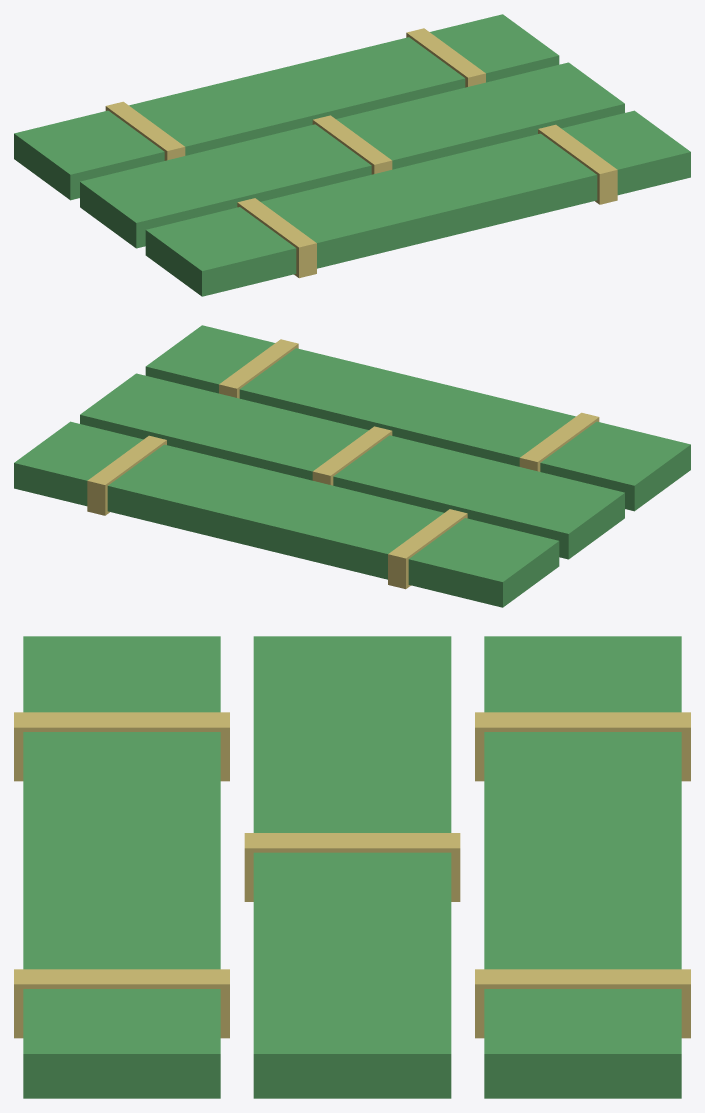
The model's file is BigPlank1.fbx.
3 renders of one model, top to bottom at view 1: azimuth 30°, elevation 25°; view 2: azimuth 150°, elevation 25°; view 3: azimuth 270°, elevation 25°, orthographic. The views are drawn at different scales.
Visible parts, largest first — view 1: Plank4, Plank3, Plank1; view 2: Plank3, Plank4, Plank1; view 3: Plank4, Plank3, Plank1.
Boxes of the visible parts, box(x1,y1,x2,y2) form: Plank4: box(145, 110, 690, 296); Plank3: box(14, 14, 559, 200); Plank1: box(80, 62, 624, 248); Plank3: box(14, 421, 559, 607); Plank4: box(145, 325, 690, 511); Plank1: box(80, 373, 624, 559); Plank4: box(14, 636, 229, 1098); Plank3: box(475, 636, 690, 1098); Plank1: box(244, 636, 460, 1098).
Size of the model in its own units: 12 by 0.7214 by 8.22.
